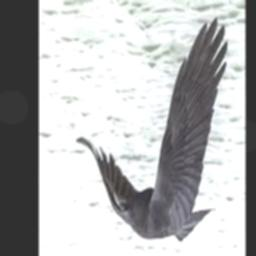Crow: (75, 18, 228, 245)
